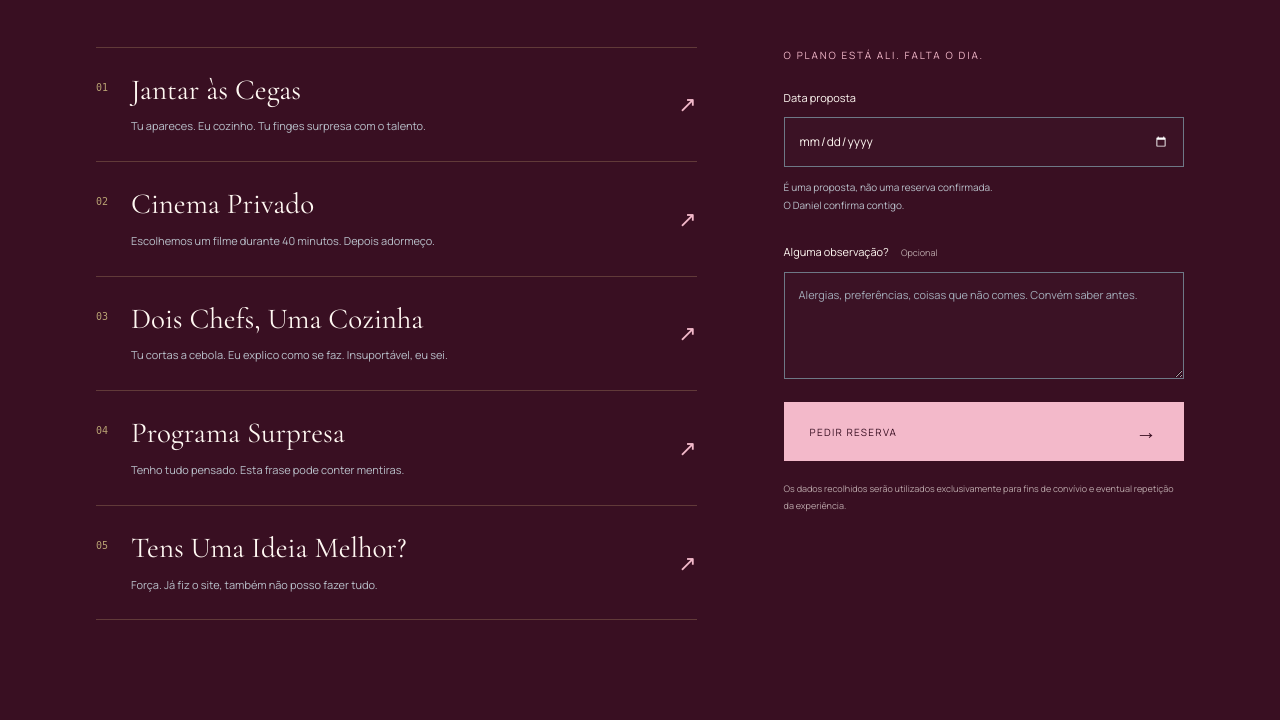
Test: reservas e secretaria › preserva o pedido quando o serviço falha
(page scrolled)
Click the radio button labelled "Tens Uma Ideia Melhor": (396,563) [96,505,697,620]
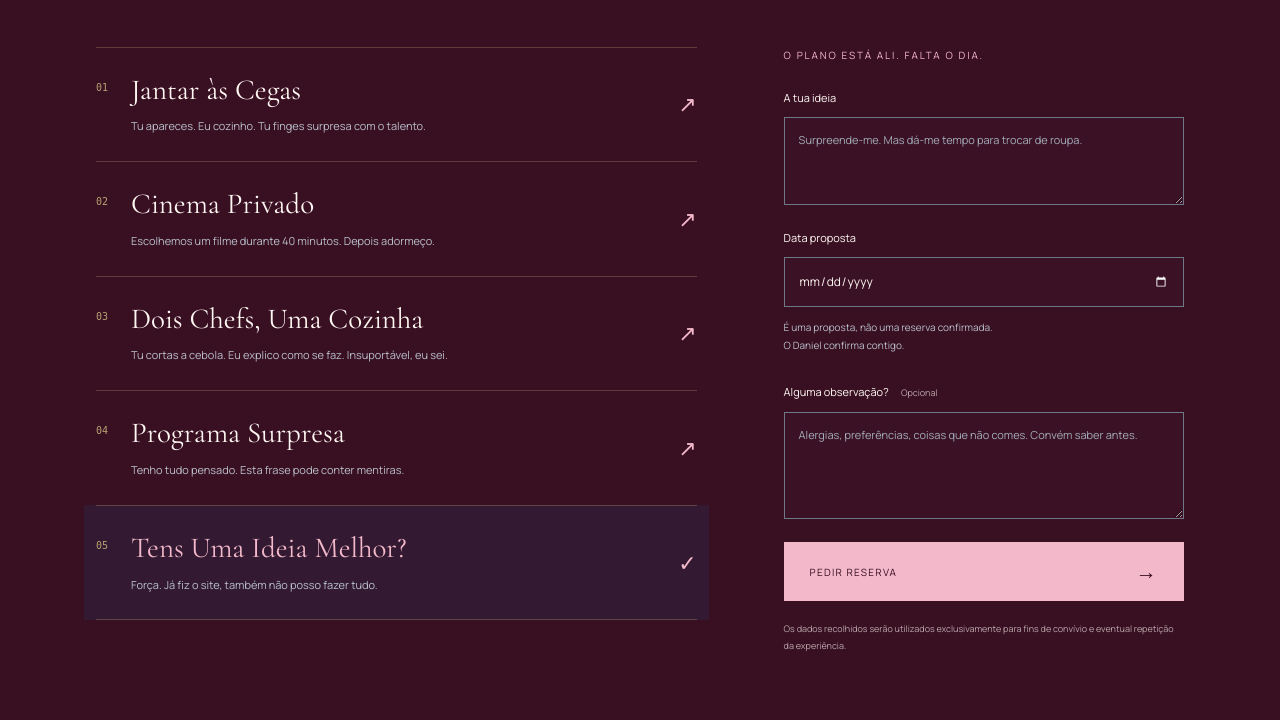
In the text box labelled "A tua ideia": (984,161) [784,117,1184,205], type "Passear junto ao rio"
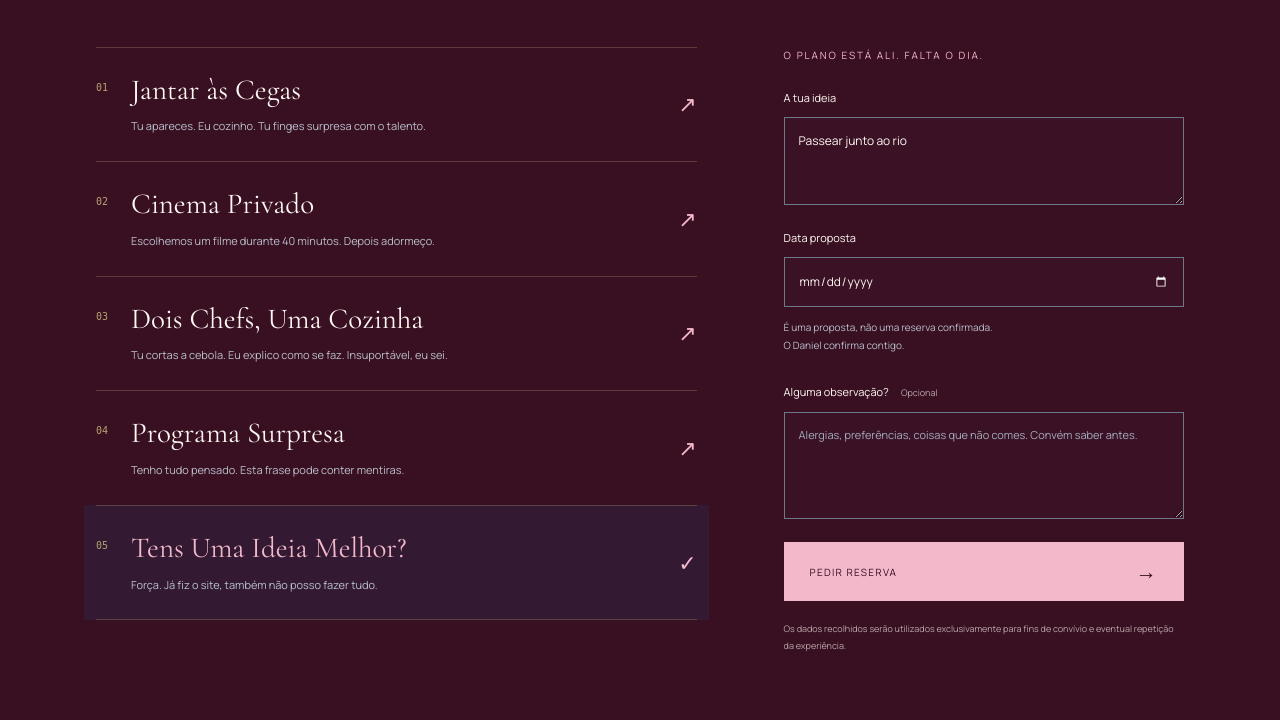
In the date field labelled "Data proposta": (984,282) [784,258,1184,307], type "2099-01-05"
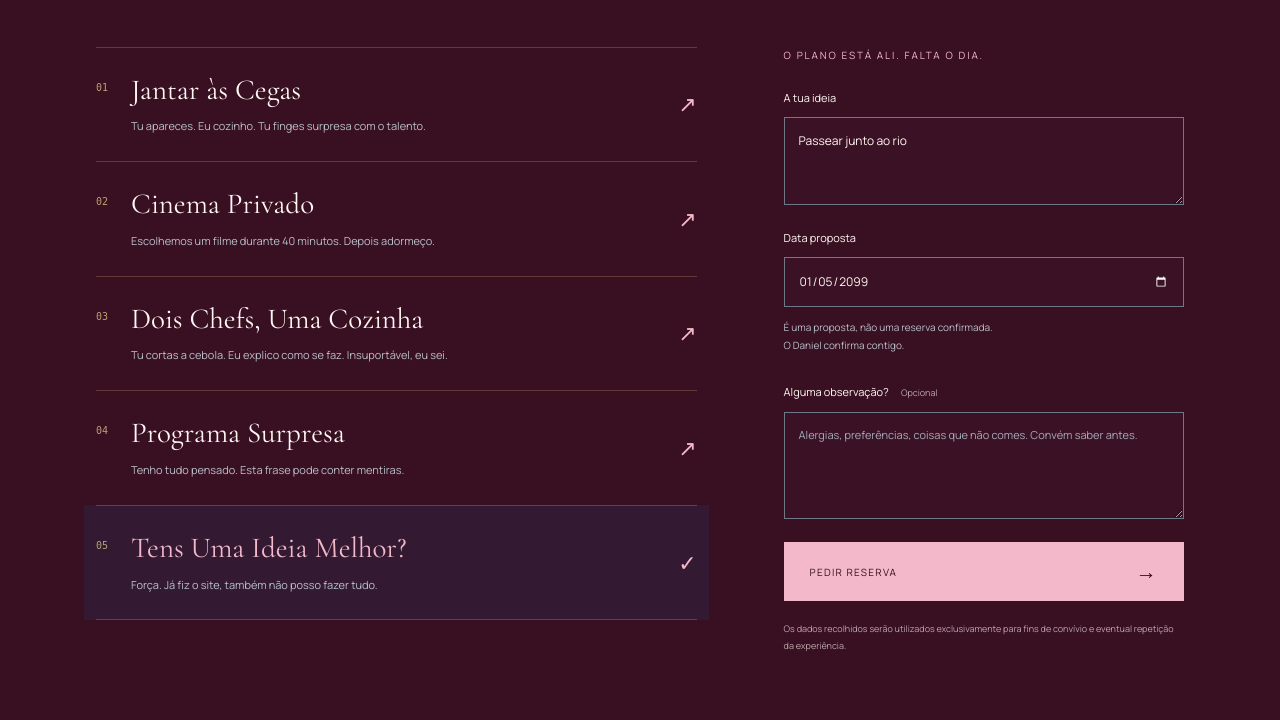
Submit the form named "Pedir reserva"
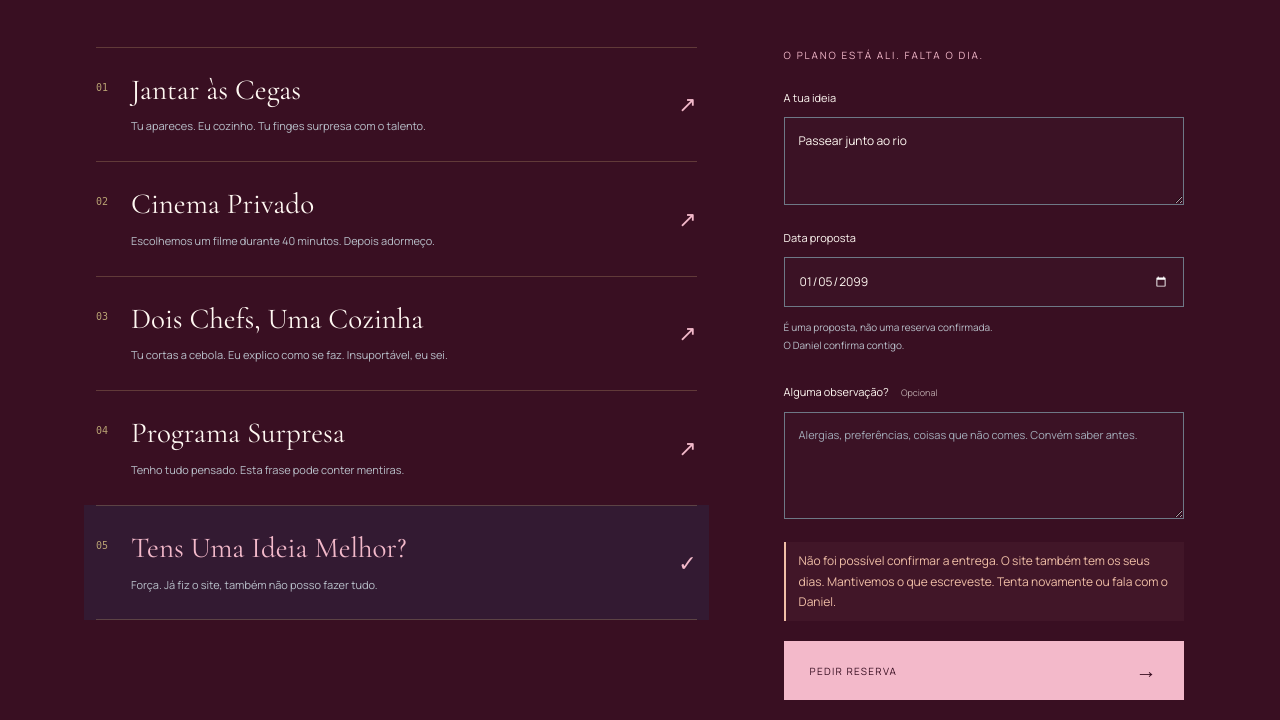
Expected: the message shows "Não foi possível confirmar", [799,552,1168,610]
